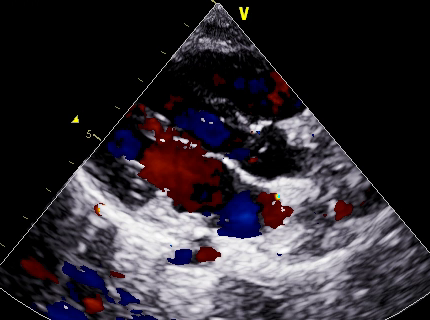MR: (113, 126, 179, 182)
